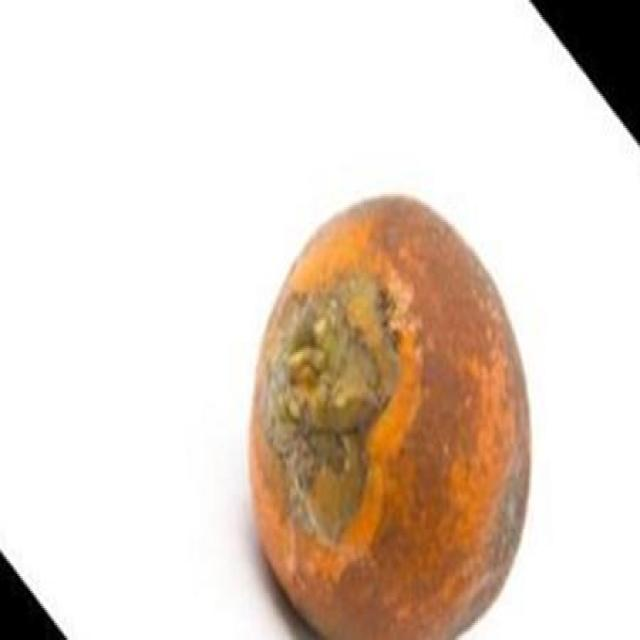good: (247, 198, 532, 638)
